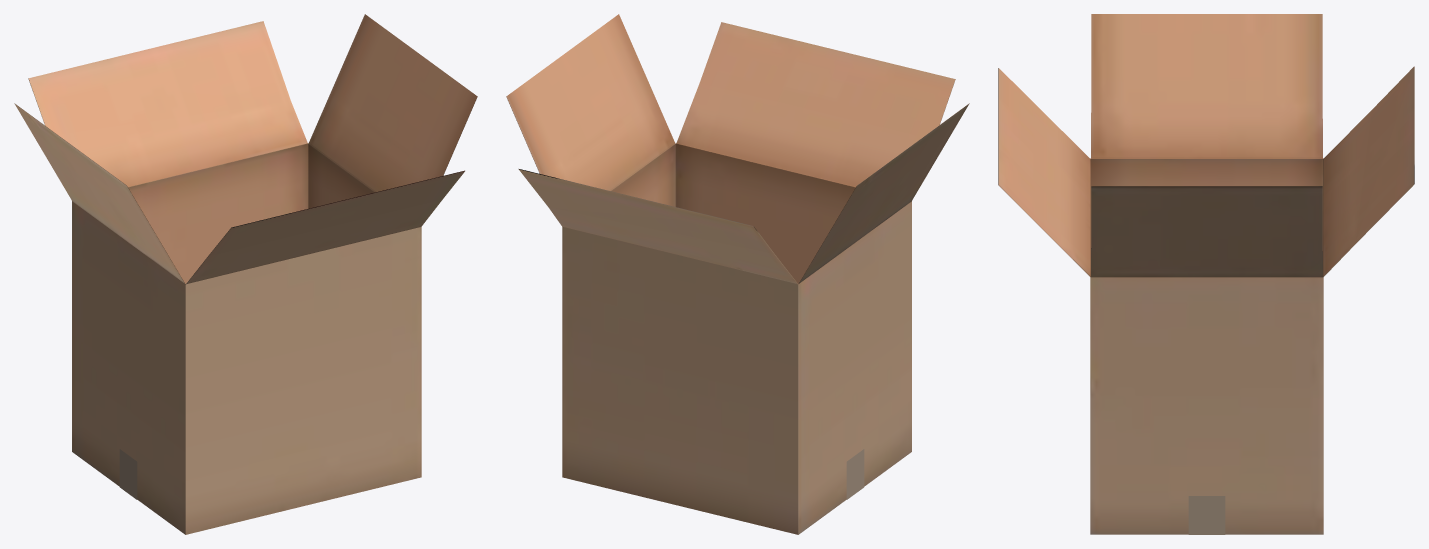
Rendered from sh-scopia-open-cardboard-box.glb.
3 renders of one model, left to right at view 1: azimuth 30°, elevation 25°; view 2: azimuth 150°, elevation 25°; view 3: azimuth 270°, elevation 25°, orthographic. The views are drawn at different scales.
Visible parts, largest first — view 1: Cube_Cube.001, Plane.001; view 2: Cube_Cube.001, Plane.001; view 3: Cube_Cube.001, Plane.001.
Boxes of the visible parts, x1=… form: Cube_Cube.001: x1=14, y1=14, x2=477, y2=534; Plane.001: x1=119, y1=449, x2=137, y2=499; Cube_Cube.001: x1=506, y1=14, x2=969, y2=534; Plane.001: x1=846, y1=449, x2=864, y2=499; Cube_Cube.001: x1=998, y1=14, x2=1414, y2=534; Plane.001: x1=1188, y1=496, x2=1225, y2=534.
Bounding box in the file's own units: 1 × 1 × 1.
2 materials, 1 textured.
